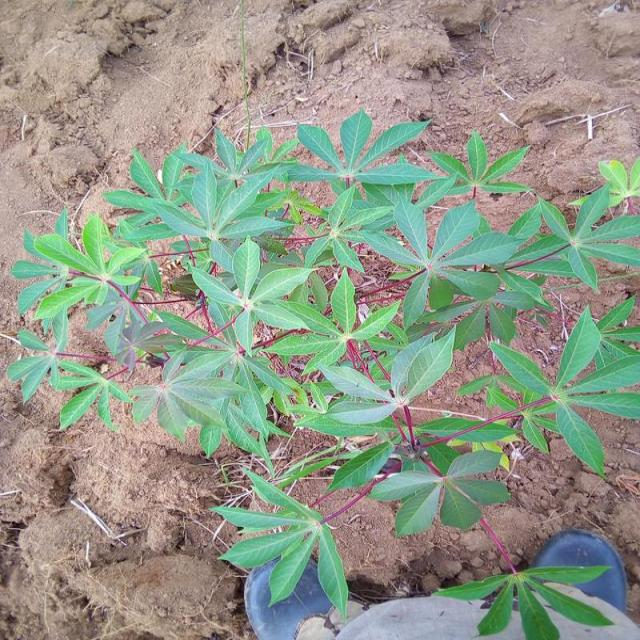cassava leaf: (6, 109, 638, 615)
